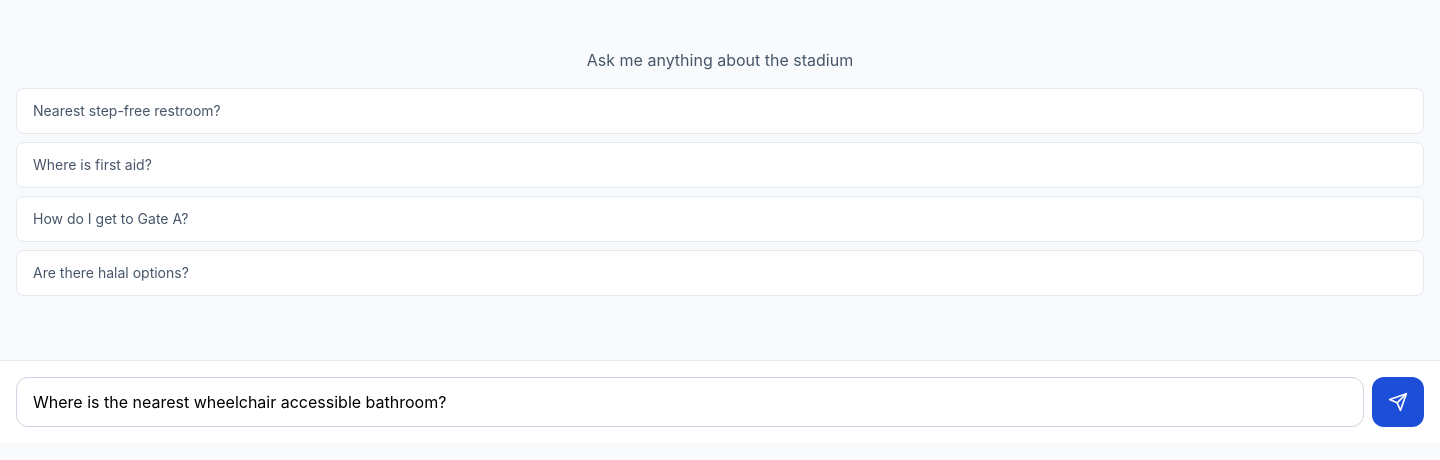
Test: ChatInterface › renders citations when returned in response
Replace the text in the field with placeholder "Ask about the stadium..." with "Step-free route?": (690, 402) [16,377,1364,427]
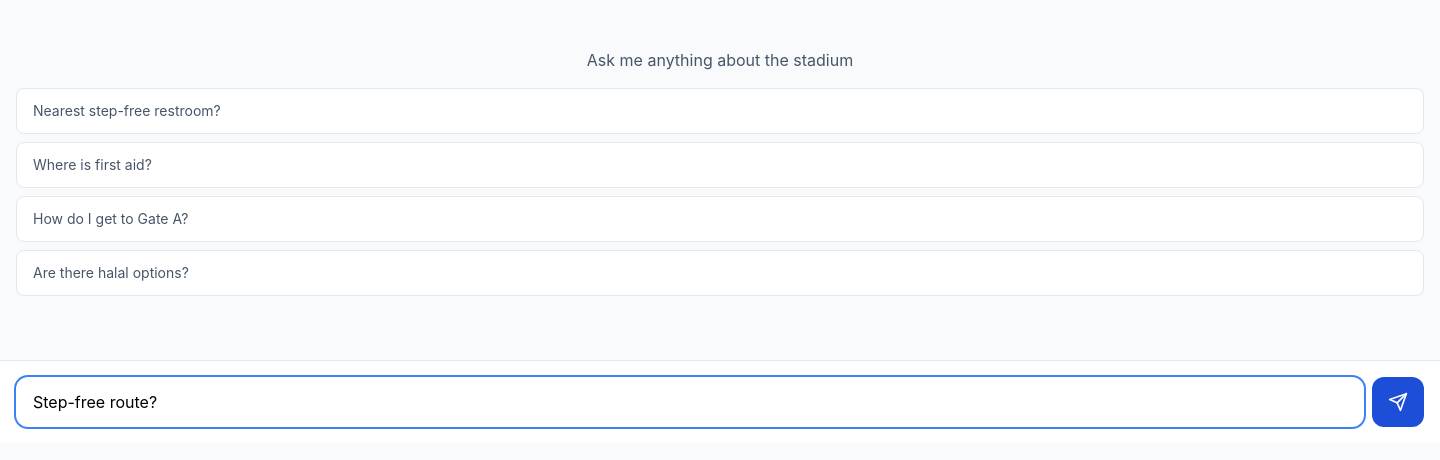
Submit the form with id "chat-form", box [0,360,1439,443]
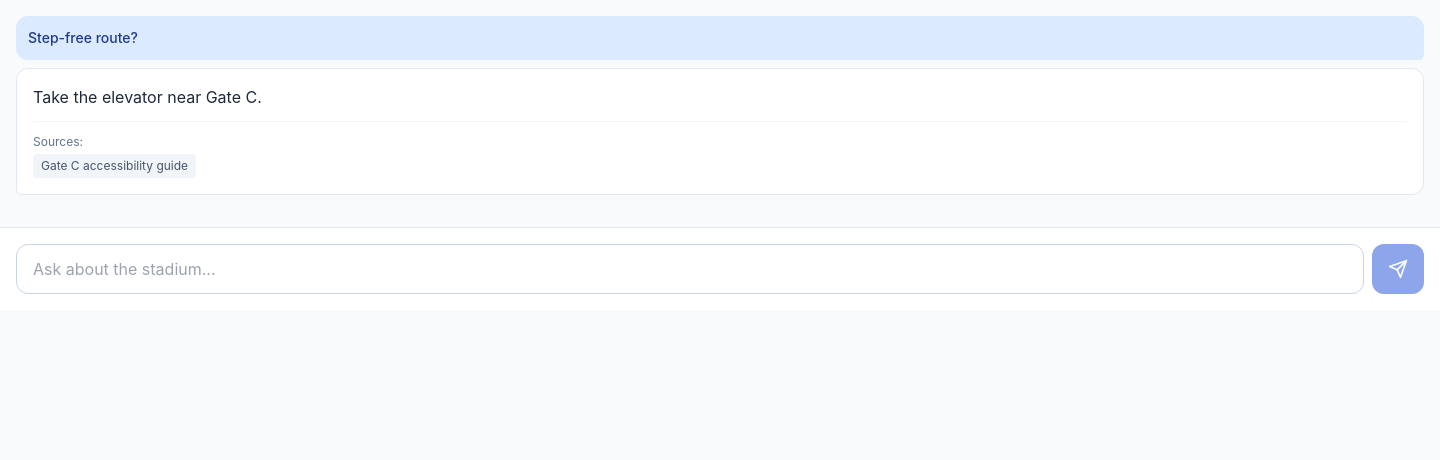
Expected: the text "Gate C accessibility guide" is shown, [33,154,196,178]
